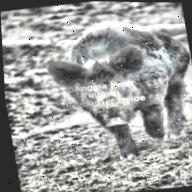boar: (45, 10, 192, 170)
